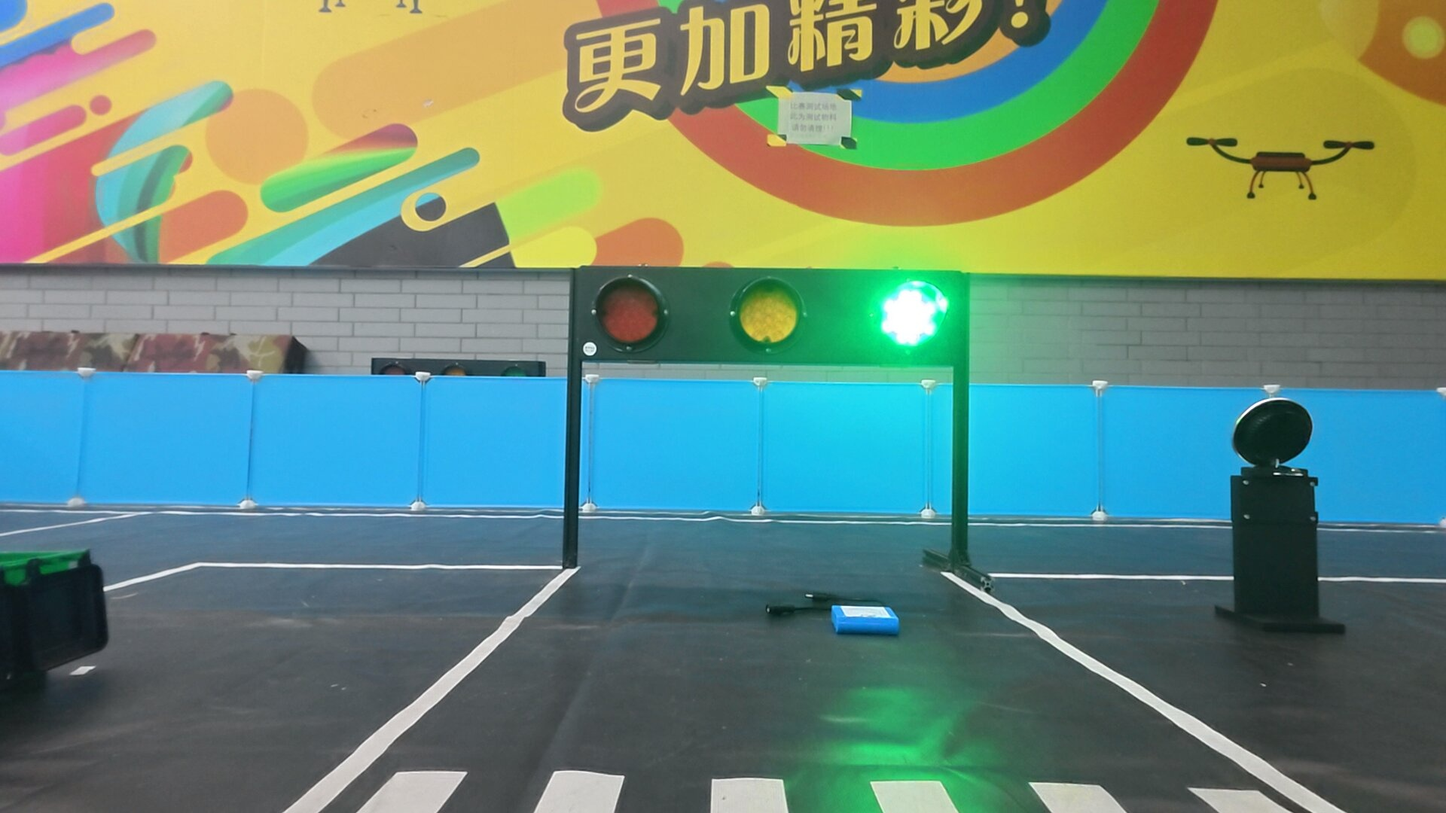go: (873, 276, 951, 355)
